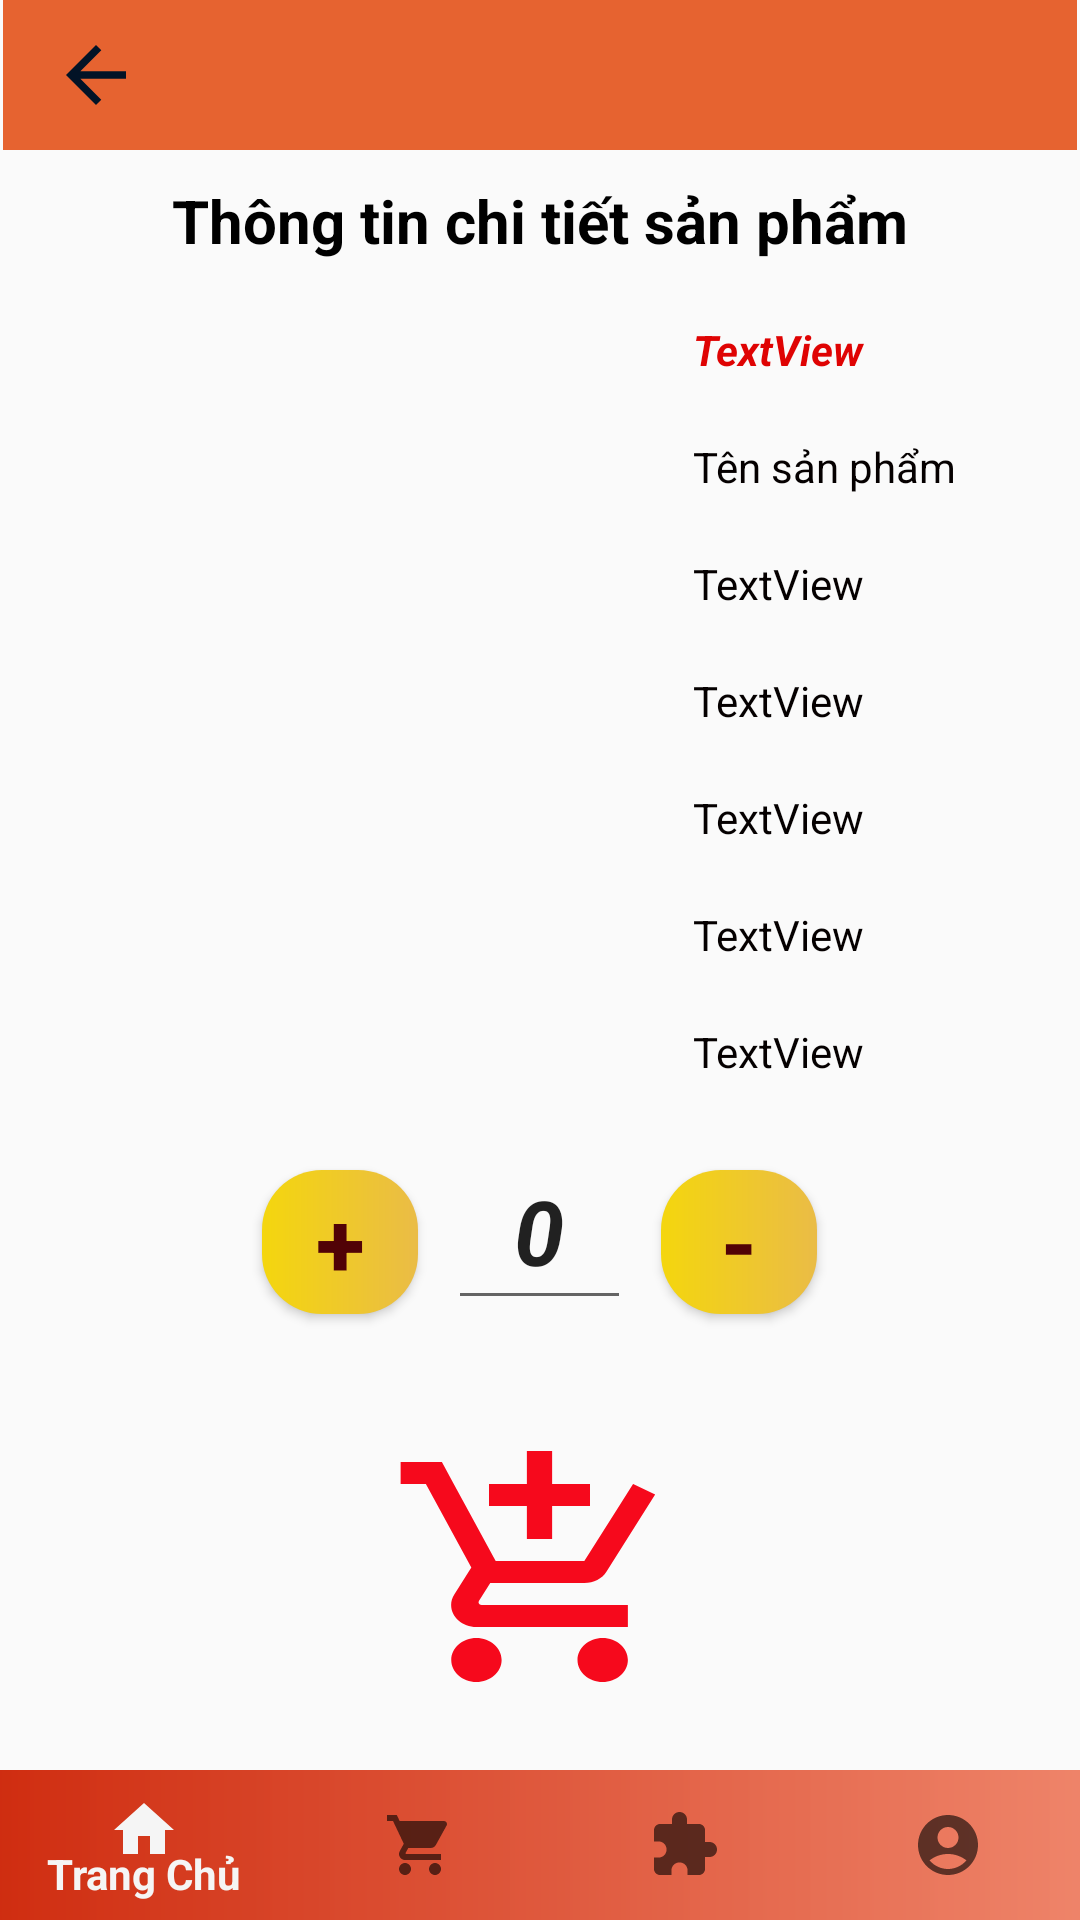

Named icons in this screenshot (1080w x 1920h) and their bounding boxes, box(x1, y1, x2, y2):
add shopping cart: box(400, 1451, 655, 1682)
arrow back: box(66, 45, 126, 105)
